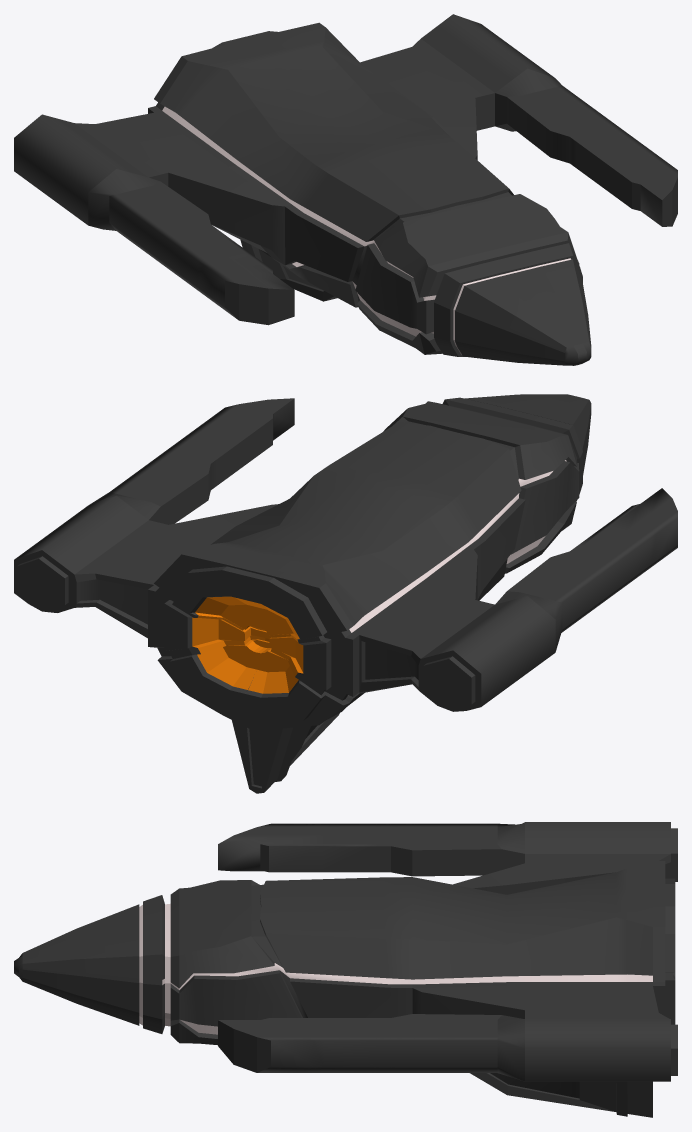
File: navicella_1.0.fbx
The picture shows the model from 3 angles, top to bottom: view 1: azimuth 30°, elevation 25°; view 2: azimuth 150°, elevation 25°; view 3: azimuth 270°, elevation 25°; orthographic projection.
Parts seen in each view (by area): view 1: pCube3; view 2: pCube3; view 3: pCube3.
Boxes of the visible parts, box(x1,y1,x2,y2) form: pCube3: box(14, 14, 677, 365); pCube3: box(14, 394, 677, 793); pCube3: box(14, 822, 677, 1117).
Bounding box in the file's own units: 477 × 223 × 599.
